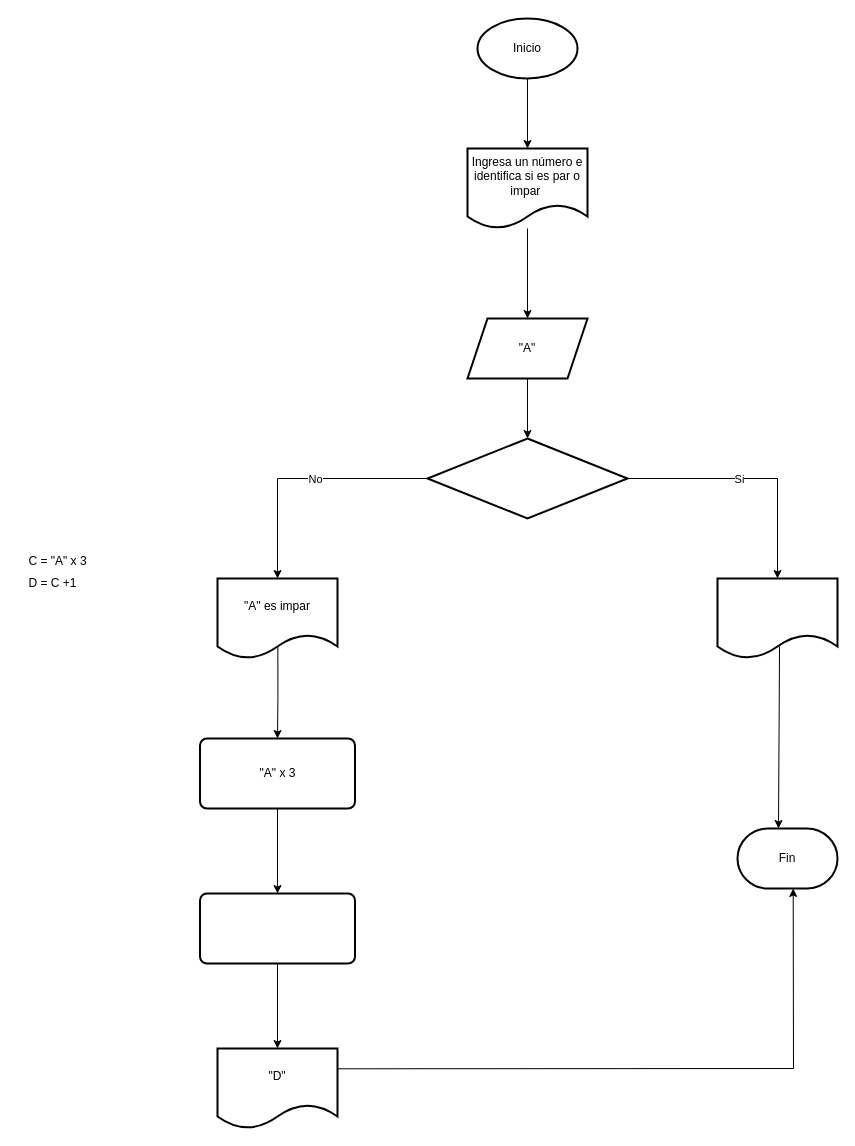
Some shapes in this 855 by 1146 pixel diagram are drawn without their labels. The centre of each missing label's shape, as x and y in pixels:
"A" es divisible por 2: [527,478]
"A" es par: [777,618]
C + 1 = D: [277,928]
